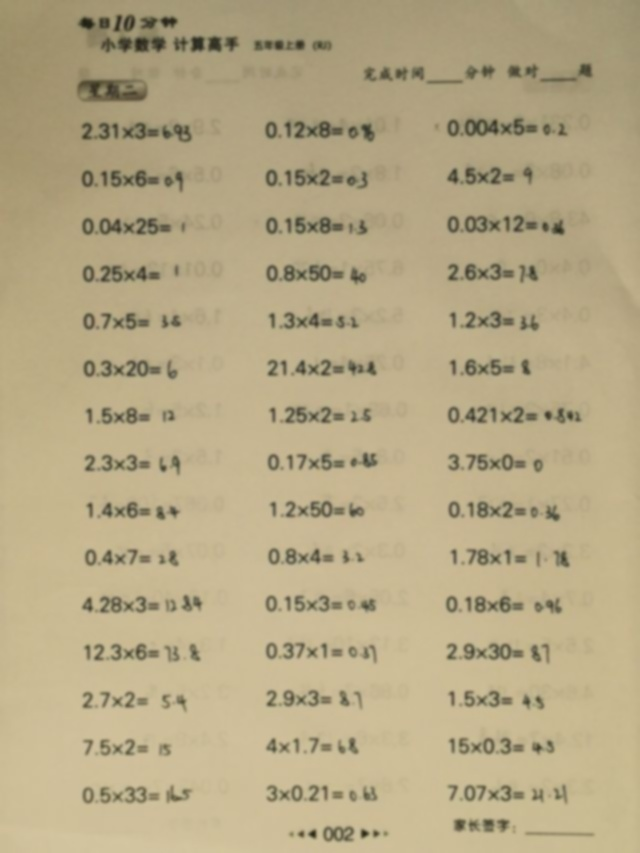equation: (75, 115, 197, 145), (432, 115, 572, 141), (445, 403, 586, 428), (443, 210, 567, 237), (260, 116, 378, 144), (444, 782, 575, 807), (80, 639, 203, 665), (261, 780, 383, 806), (77, 165, 186, 194), (78, 592, 205, 616), (447, 545, 573, 569), (261, 639, 380, 664), (444, 497, 563, 522), (442, 592, 565, 616), (261, 164, 370, 191), (261, 260, 369, 287), (78, 687, 190, 713), (443, 639, 553, 665), (261, 212, 370, 238), (262, 591, 380, 615), (263, 449, 381, 473), (78, 782, 195, 806), (265, 356, 381, 380), (81, 450, 183, 477), (79, 214, 189, 239), (445, 734, 558, 758), (267, 403, 375, 428), (78, 260, 181, 286), (79, 355, 180, 381), (262, 686, 366, 711), (79, 308, 183, 333), (82, 497, 183, 522), (445, 307, 542, 333), (444, 259, 541, 285), (444, 687, 547, 711), (444, 450, 546, 474), (444, 163, 537, 189), (263, 734, 363, 758), (81, 545, 181, 569), (265, 309, 364, 333), (265, 545, 368, 568), (266, 498, 368, 521), (82, 404, 179, 428), (80, 736, 175, 760), (446, 354, 534, 379)
